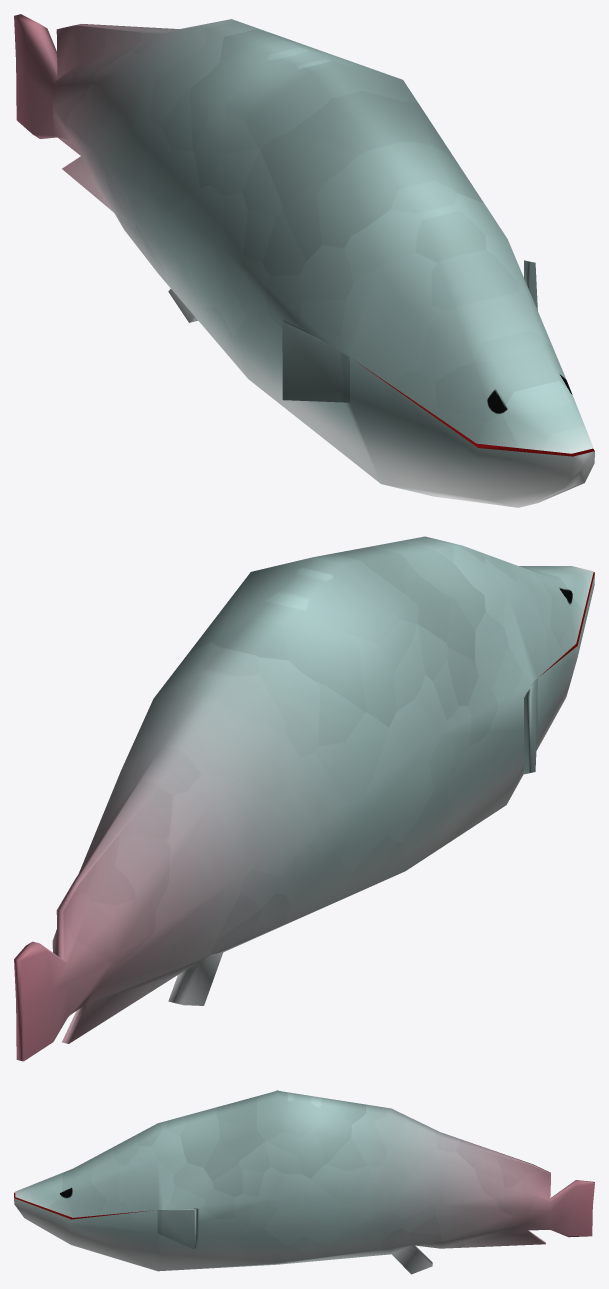
Rendered from pillarc_ani_attack.fbx.
3 renders of one model, top to bottom at view 1: azimuth 30°, elevation 25°; view 2: azimuth 150°, elevation 25°; view 3: azimuth 270°, elevation 25°, orthographic. The views are drawn at different scales.
Visible parts, largest first — view 1: piraruku1; view 2: piraruku1; view 3: piraruku1.
Boxes of the visible parts, x1,y1,x2,y2 form: piraruku1: [14, 14, 594, 507]; piraruku1: [14, 536, 594, 1061]; piraruku1: [14, 1090, 594, 1274].
Size of the model in its own units: 2.03 by 2.67 by 7.88.
